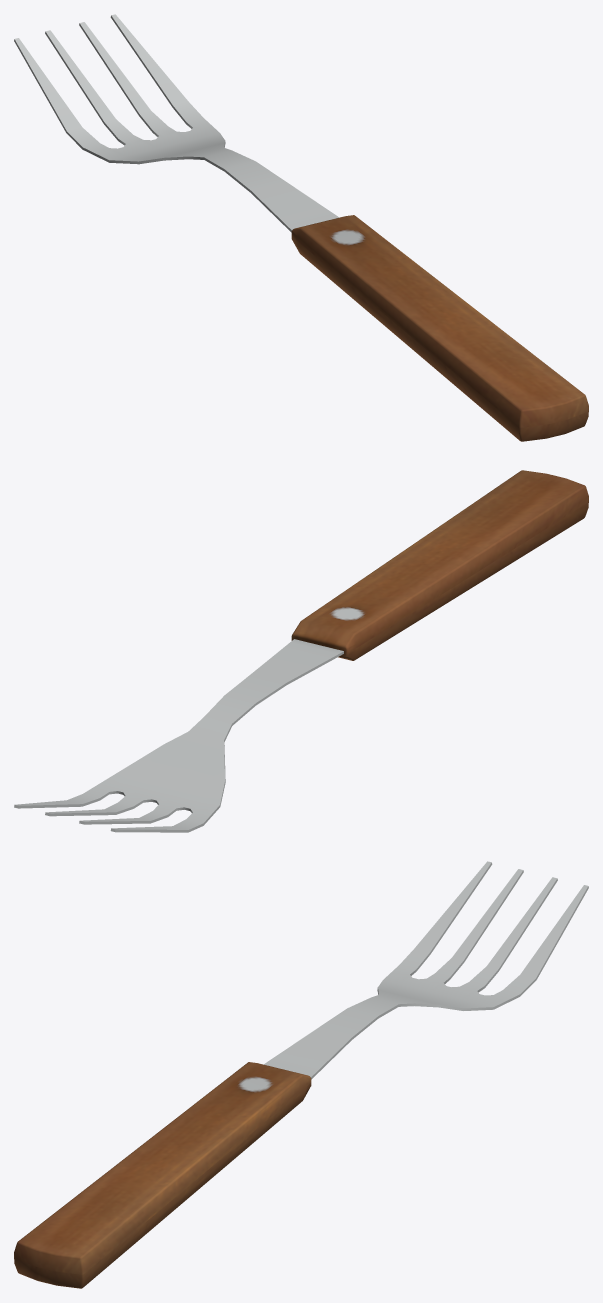
File: GardenTableWear01_21.FBX
The picture shows the model from 3 angles, top to bottom: view 1: azimuth 30°, elevation 25°; view 2: azimuth 150°, elevation 25°; view 3: azimuth 330°, elevation 25°; orthographic projection.
Parts seen in each view (by area): view 1: GardenTableWear01_21; view 2: GardenTableWear01_21; view 3: GardenTableWear01_21.
Part boxes in pixels (x1,y1,x2,y2): GardenTableWear01_21: [14, 14, 588, 441]; GardenTableWear01_21: [14, 470, 588, 832]; GardenTableWear01_21: [14, 861, 588, 1288].
Size of what is drawn, in the model's own units: 0.0414 by 0.0167 by 0.2908.
